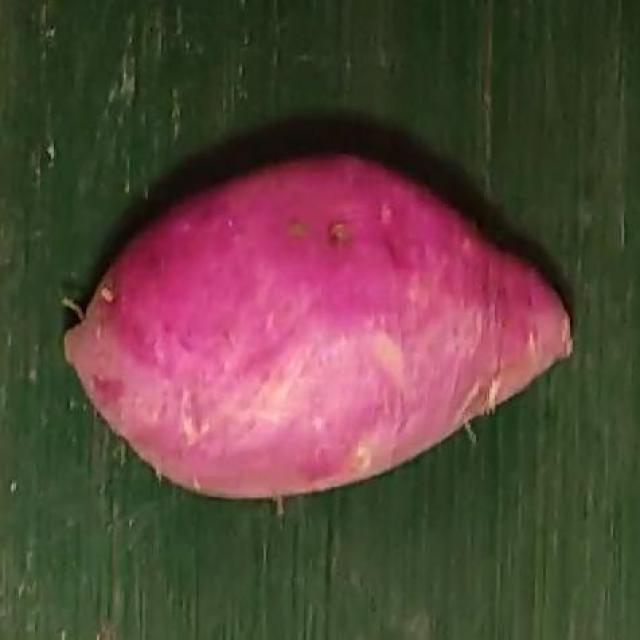Sweet Potato: (65, 154, 569, 503)
